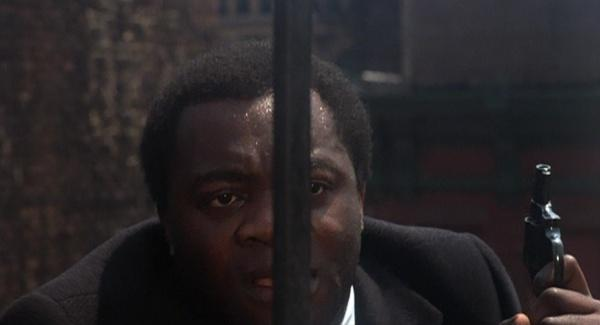Gun: (522, 161, 567, 293)
